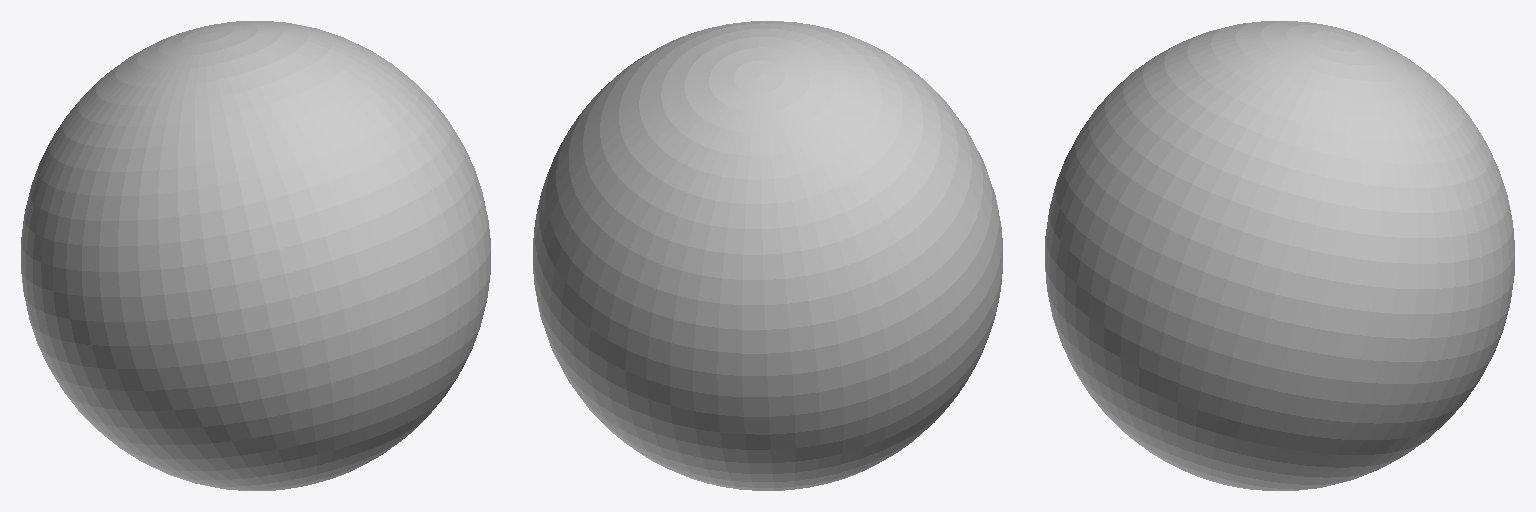
Rendered from ball4.obj.
3 renders of one model, left to right at view 1: azimuth 30°, elevation 25°; view 2: azimuth 150°, elevation 25°; view 3: azimuth 270°, elevation 25°, orthographic.
Parts seen in each view (by area): view 1: 球体.4; view 2: 球体.4; view 3: 球体.4.
Boxes of the visible parts, <box> form: 球体.4: <box>21,21,490,490</box>; 球体.4: <box>533,21,1002,490</box>; 球体.4: <box>1045,21,1514,490</box>.
Size of the model in its own units: 119 by 119 by 119.